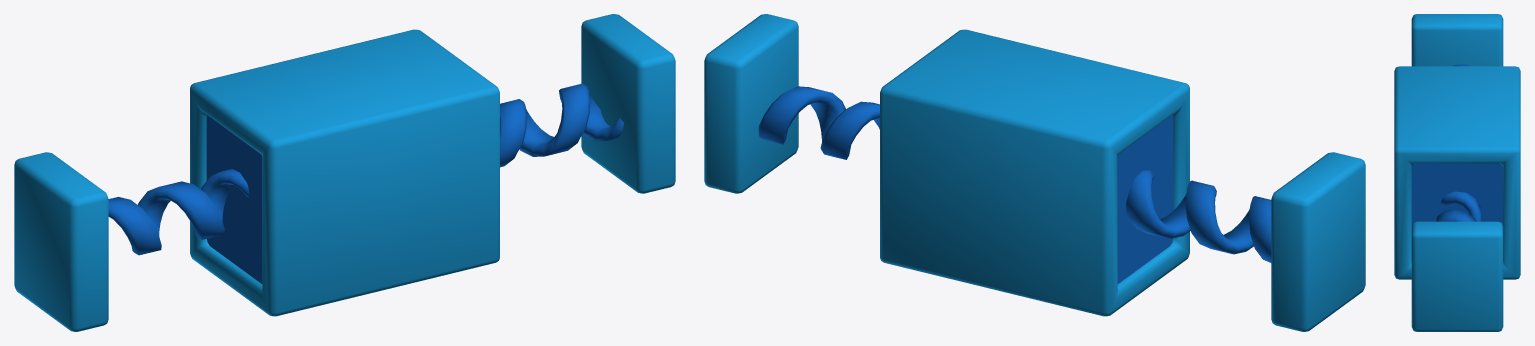
The model's file is spring_blue.fbx.
The picture shows the model from 3 angles, left to right: view 1: azimuth 30°, elevation 25°; view 2: azimuth 150°, elevation 25°; view 3: azimuth 270°, elevation 25°; orthographic projection. The views are drawn at different scales.
Visible parts, largest first — view 1: spring_blue_main, spring_blue_serve; view 2: spring_blue_main, spring_blue_serve; view 3: spring_blue_main, spring_blue_serve.
Part boxes in pixels (box(x1,y1,x2,y2)): spring_blue_main: box(190, 29, 499, 316); spring_blue_serve: box(14, 14, 675, 331); spring_blue_main: box(880, 29, 1189, 316); spring_blue_serve: box(704, 14, 1365, 331); spring_blue_main: box(1394, 66, 1520, 279); spring_blue_serve: box(1411, 14, 1503, 331).
Size of the model in its own units: 0.8403 by 0.2341 by 0.2024.
